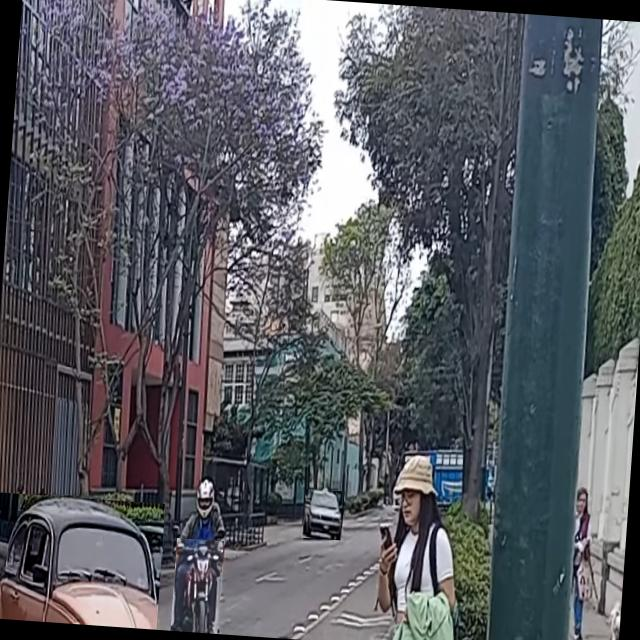car: (0, 491, 164, 629), (302, 488, 344, 540), (0, 504, 7, 617)
motorcycle: (170, 538, 223, 634)
